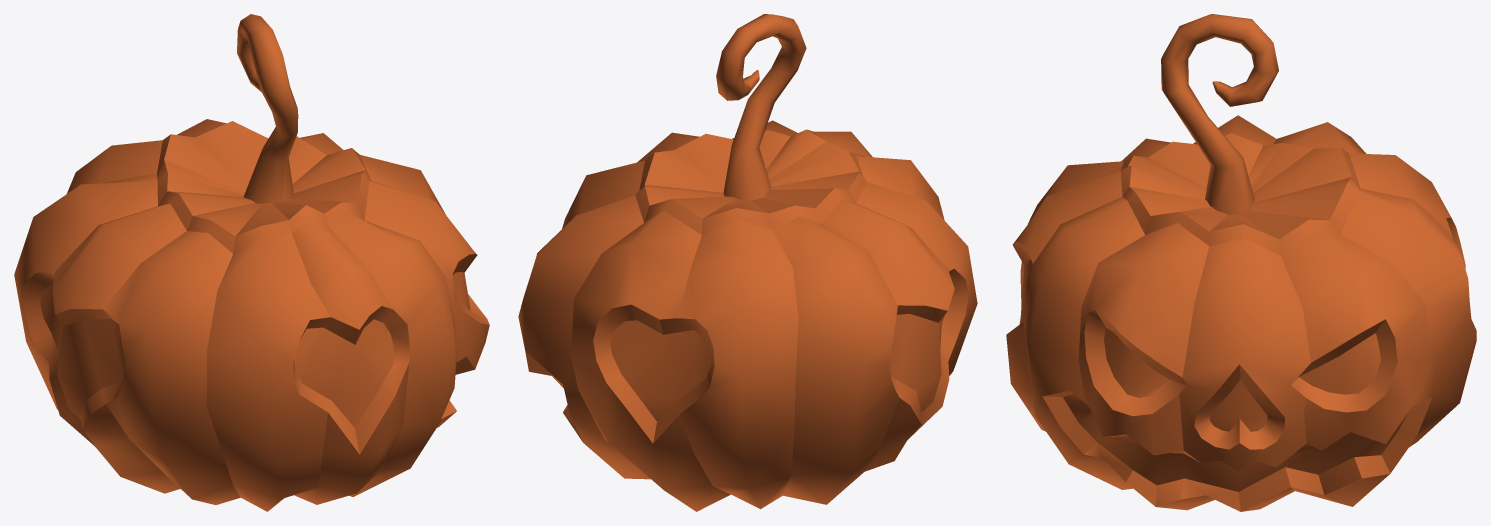
Rendered from hellowen_pumpkin.obj.
3 renders of one model, left to right at view 1: azimuth 30°, elevation 25°; view 2: azimuth 150°, elevation 25°; view 3: azimuth 270°, elevation 25°, orthographic. The views are drawn at different scales.
Visible parts, largest first — view 1: hellowen_pumpkin; view 2: hellowen_pumpkin; view 3: hellowen_pumpkin.
Part boxes in pixels (x1,y1,x2,y2): hellowen_pumpkin: (14,14,489,511); hellowen_pumpkin: (518,14,977,511); hellowen_pumpkin: (1006,14,1476,511).
Size of the model in its own units: 8.87 by 9.79 by 9.06.
